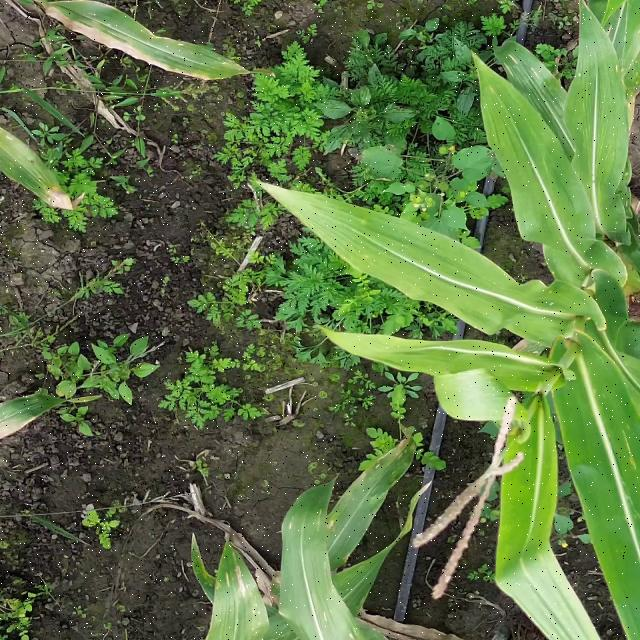northern-leaf-blight: (49, 7, 241, 82)
southern-leaf-blight: (219, 560, 401, 640), (327, 441, 426, 529)
